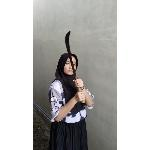Golok: (64, 28, 88, 104)
